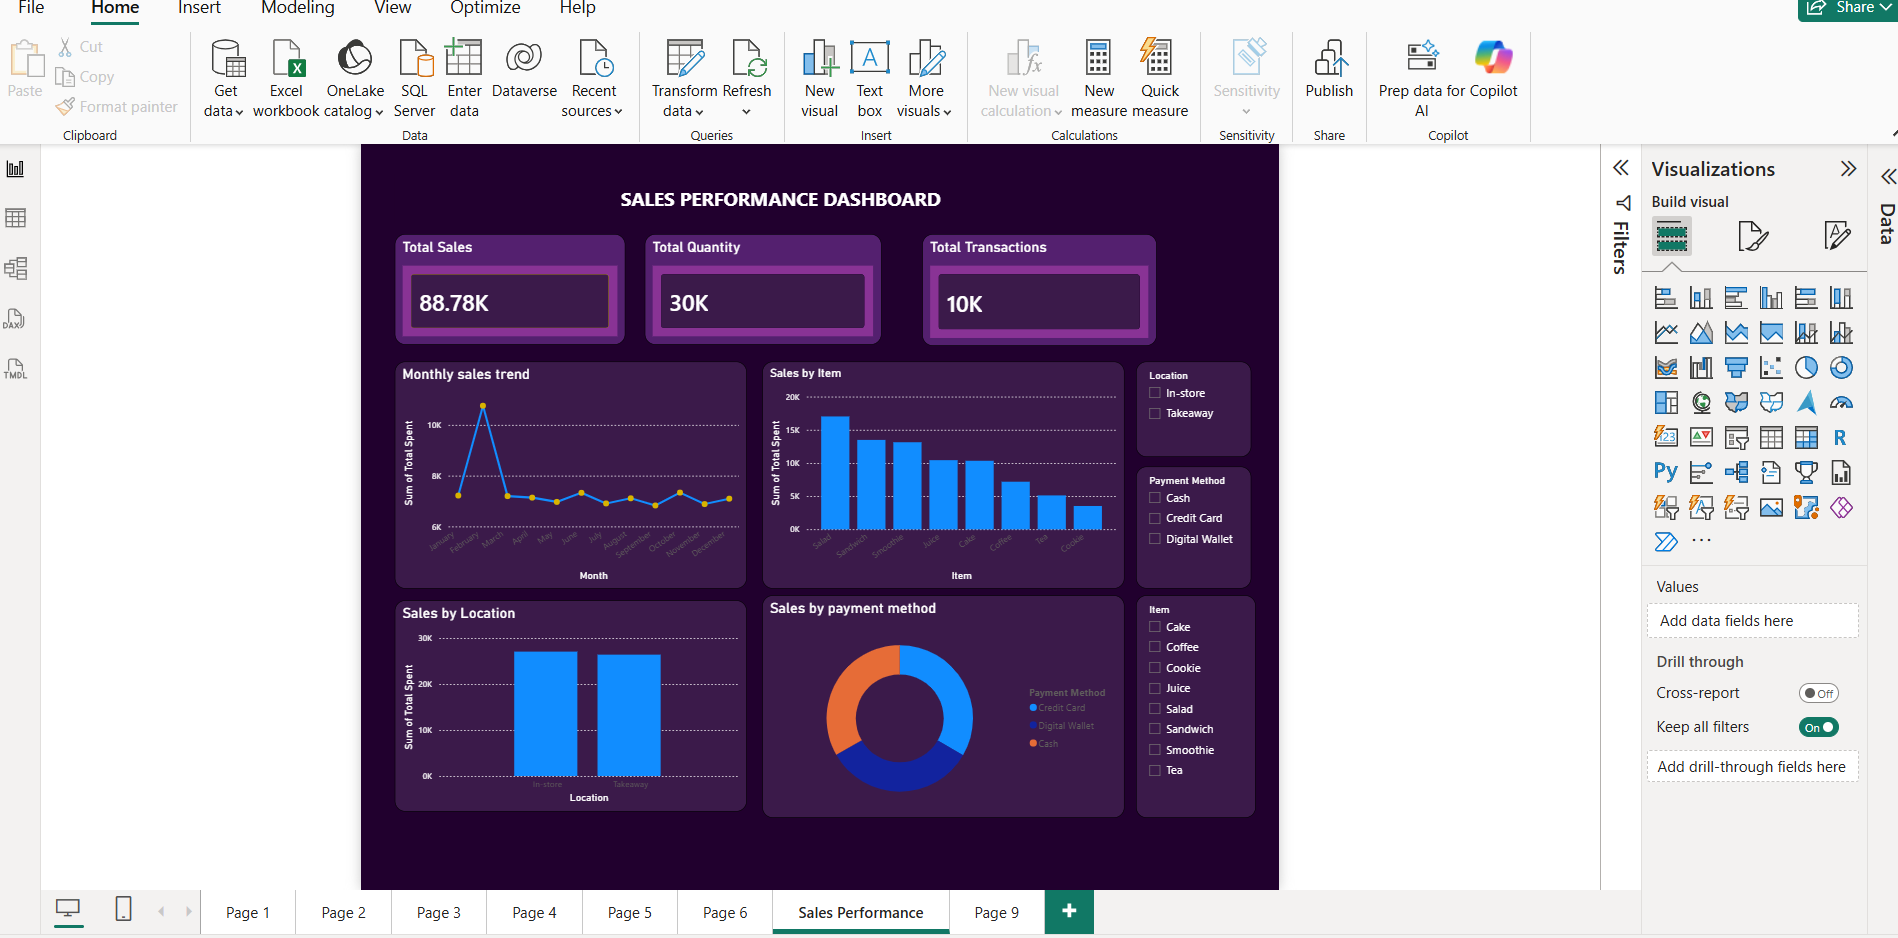

Layout of this report page (visuals, bound fields, positions):
{"tool":"powerbi","page":{"name":"Page 7","canvas":[1280,975],"ordinal":6},"visuals":[{"type":"cardVisual","title":"Total Sales ","fields":{"Data":["Sum(cleaned_Cafe_sales_data.Total Spent)"]},"box":[47.4,127.4,326.7,156.8],"z":0},{"type":"cardVisual","title":"Total Quantity","fields":{"Data":["Sum(cleaned_Cafe_sales_data.Quantity)"]},"box":[401.9,127.4,334.9,156.8],"z":1000},{"type":"cardVisual","title":"Total Transactions","fields":{"Data":["CountNonNull(cleaned_Cafe_sales_data.Transaction ID)"]},"box":[794,127.4,331.6,158.5],"z":2000},{"type":"clusteredColumnChart","title":"Sales by Item","fields":{"Category":["cleaned_Cafe_sales_data.Item"],"Y":["Sum(cleaned_Cafe_sales_data.Total Spent)"]},"box":[568.5,307.1,513,321.8],"z":3000},{"type":"clusteredColumnChart","title":"Sales by Location","fields":{"Category":["cleaned_Cafe_sales_data.Location"],"Y":["Sum(cleaned_Cafe_sales_data.Total Spent)"]},"box":[47.4,645.3,498.3,299],"z":4000},{"type":"donutChart","title":"Sales by payment method","fields":{"Category":["cleaned_Cafe_sales_data.Payment Method"],"Y":["Sum(cleaned_Cafe_sales_data.Total Spent)"]},"box":[568.5,638.8,513,315.3],"z":5000},{"type":"lineChart","title":"Monthly sales trend","fields":{"Y":["Sum(cleaned_Cafe_sales_data.Total Spent)"],"Category":["cleaned_Cafe_sales_data.Transaction Date.Variation.Date Hierarchy.Month"]},"box":[47.4,307.1,498.3,321.8],"z":6000},{"type":"slicer","fields":{"Values":["cleaned_Cafe_sales_data.Item"]},"box":[1097.9,638.8,169.9,315.3],"z":7000},{"type":"slicer","fields":{"Values":["cleaned_Cafe_sales_data.Location"]},"box":[1097.9,307.1,163.4,135.6],"z":8000},{"type":"slicer","fields":{"Values":["cleaned_Cafe_sales_data.Payment Method"]},"box":[1097.9,455.8,163.4,173.2],"z":9000},{"type":"textbox","box":[47.4,42.5,1078.3,68.6],"z":10000}]}

Visuals, with their boxes on the page's 1280x975 design canvas (x1, y1, x2, y2). These are canvas units, not pixel positions in the 1898x938 screenshot, which may show the page scaled, cropped or inside an application window:
"Total Sales " cardVisual: bbox=(47, 127, 374, 284)
"Total Quantity" cardVisual: bbox=(402, 127, 737, 284)
"Total Transactions" cardVisual: bbox=(794, 127, 1126, 286)
"Sales by Item" clusteredColumnChart: bbox=(568, 307, 1082, 629)
"Sales by Location" clusteredColumnChart: bbox=(47, 645, 546, 944)
"Sales by payment method" donutChart: bbox=(568, 639, 1082, 954)
"Monthly sales trend" lineChart: bbox=(47, 307, 546, 629)
slicer - cleaned_Cafe_sales_data.Item: bbox=(1098, 639, 1268, 954)
slicer - cleaned_Cafe_sales_data.Location: bbox=(1098, 307, 1261, 443)
slicer - cleaned_Cafe_sales_data.Payment Method: bbox=(1098, 456, 1261, 629)
textbox: bbox=(47, 42, 1126, 111)
